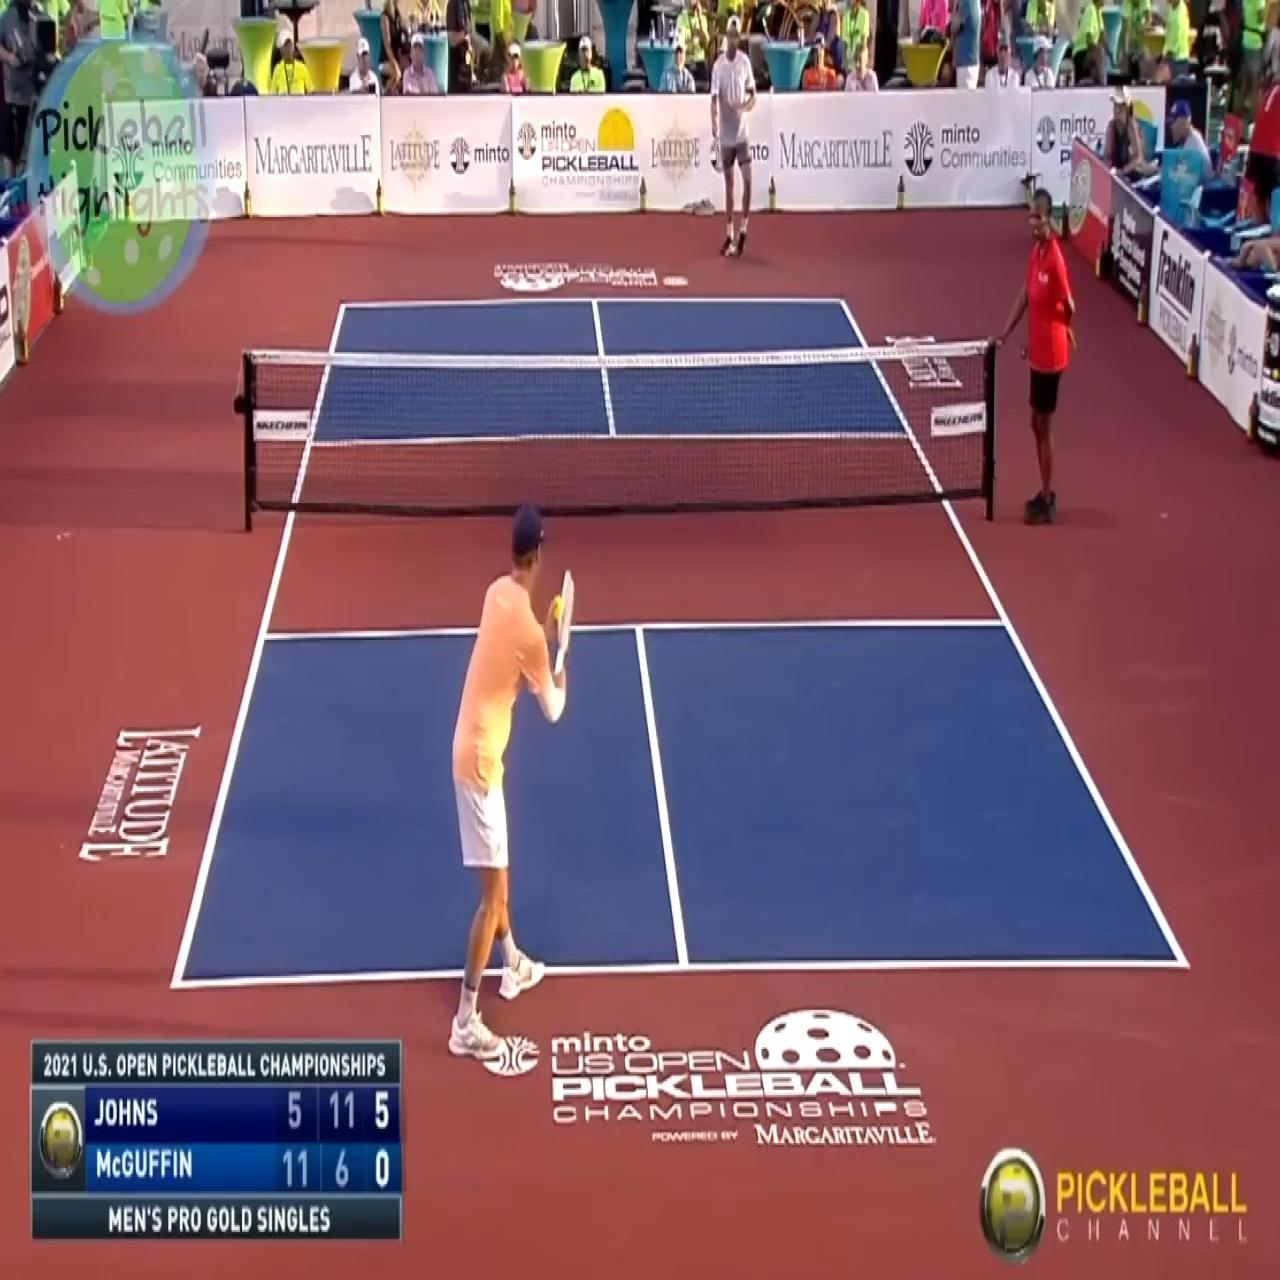pickleball: (554, 594, 561, 619)
